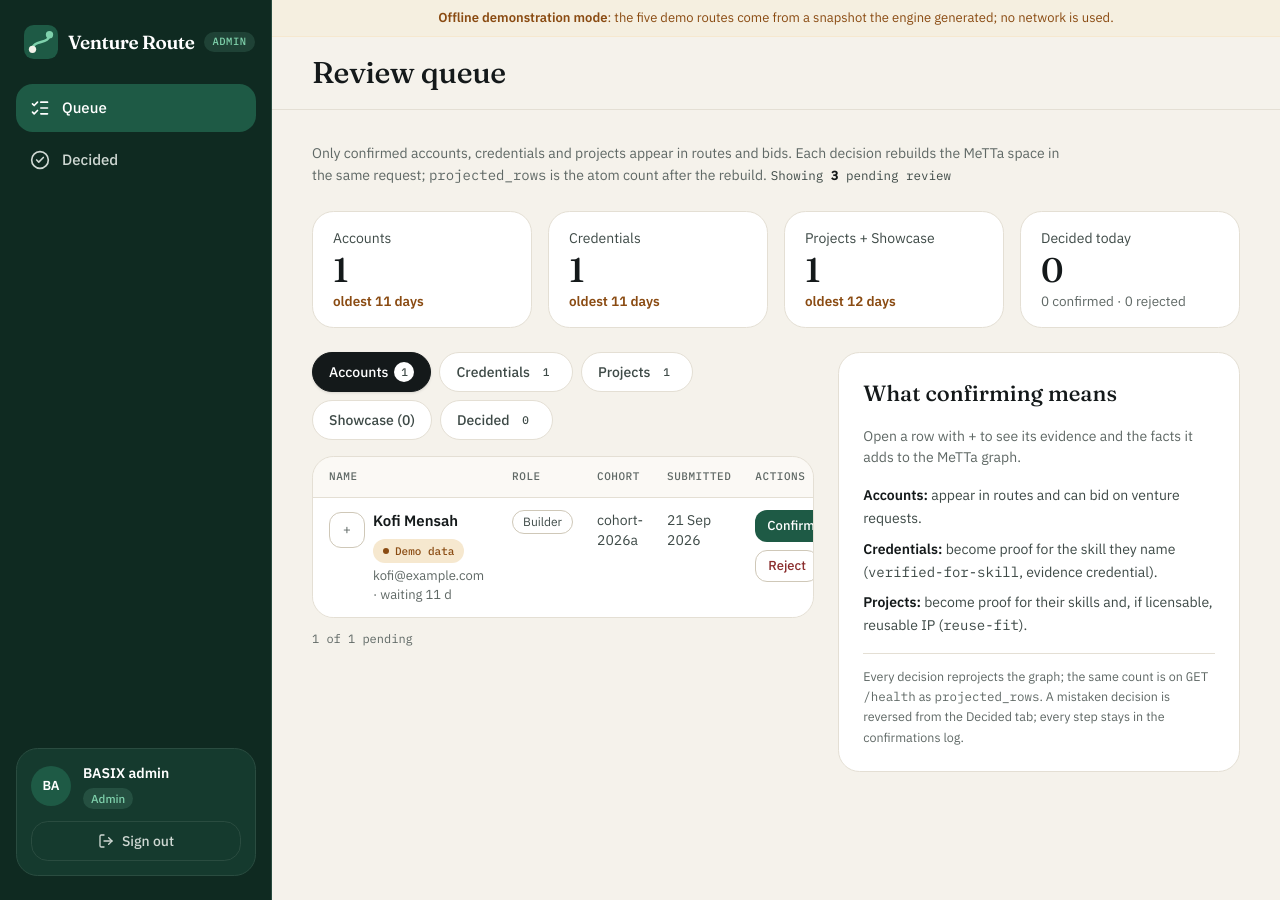
Test: /admin › shows the projection preview for an expanded credential row
The image size is (1280, 900).
Click the tab "Credentials 1".
click(506, 372)  # box top-left (440, 352), bottom-right (573, 392)
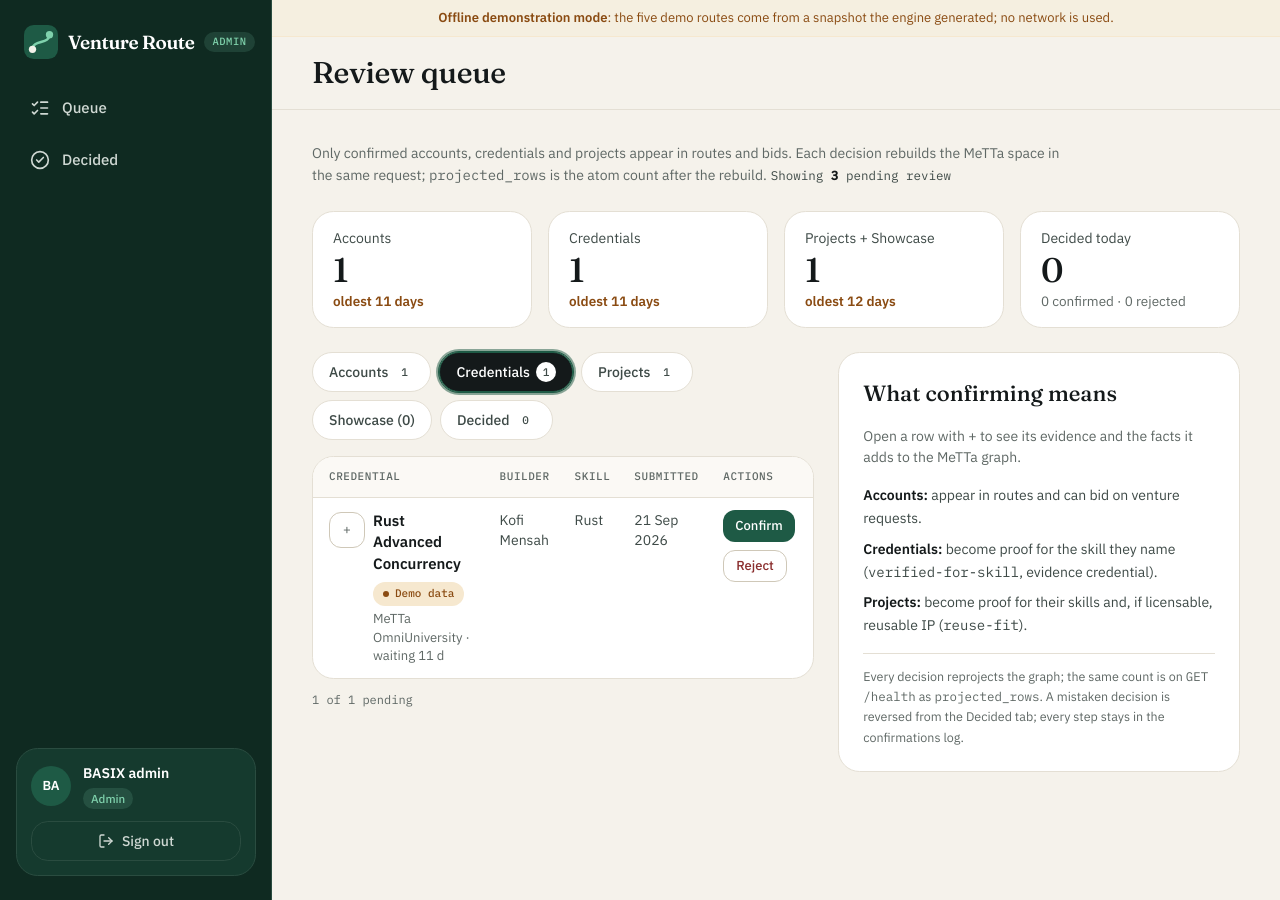
Click the button named "Expand row".
click(347, 530)  # box top-left (329, 512), bottom-right (365, 548)
(page scrolled)
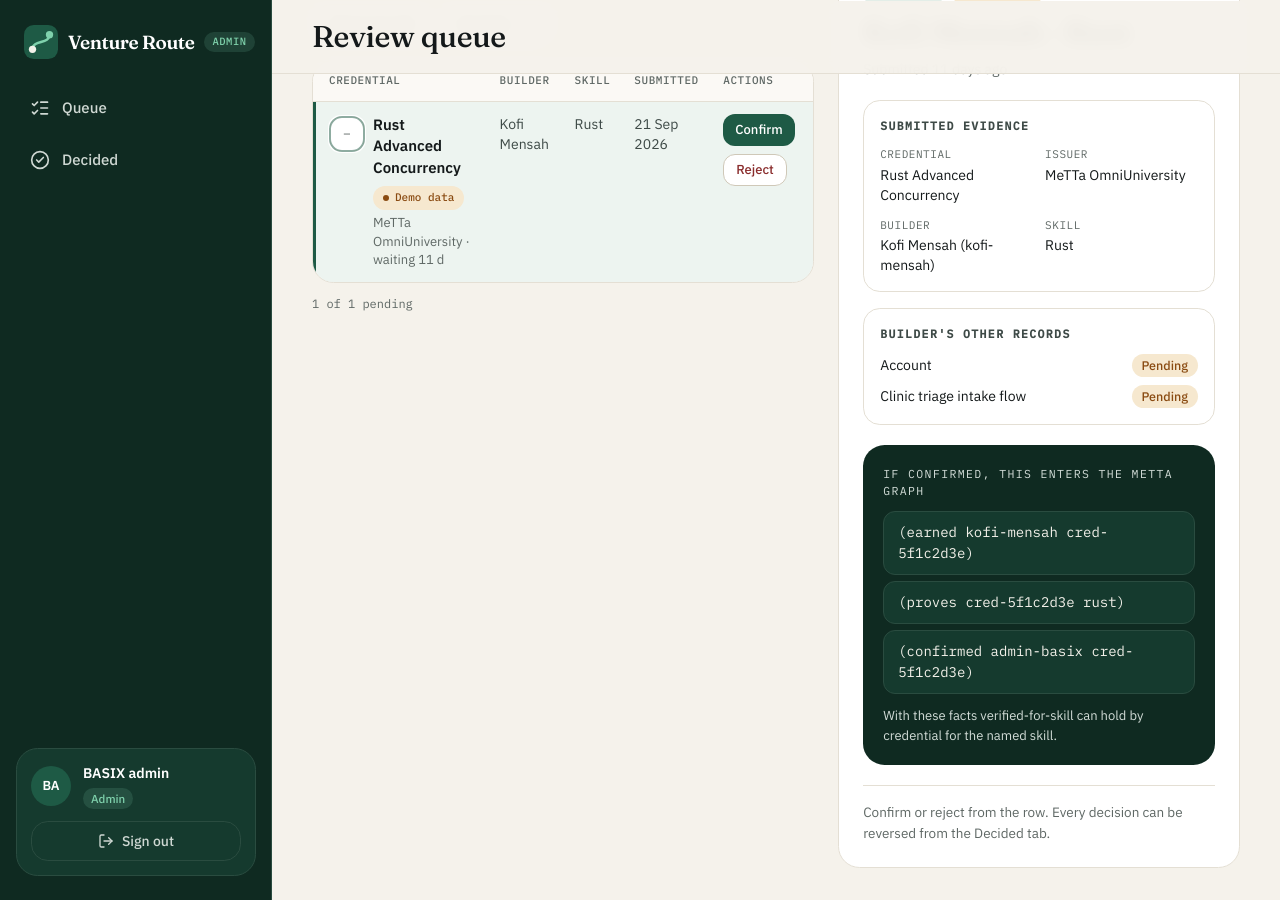
Expected: the element named "Projection preview" shows "(earned kofi-mensah cred-5f1c2d3e)", top-left (898, 523), bottom-right (1108, 562)
Expected: the element named "Projection preview" shows "(proves cred-5f1c2d3e rust)", top-left (898, 593), bottom-right (1125, 611)
Expected: the element named "Projection preview" shows "(confirmed admin-basix cred-5f1c2d3e)", top-left (898, 642), bottom-right (1133, 681)
